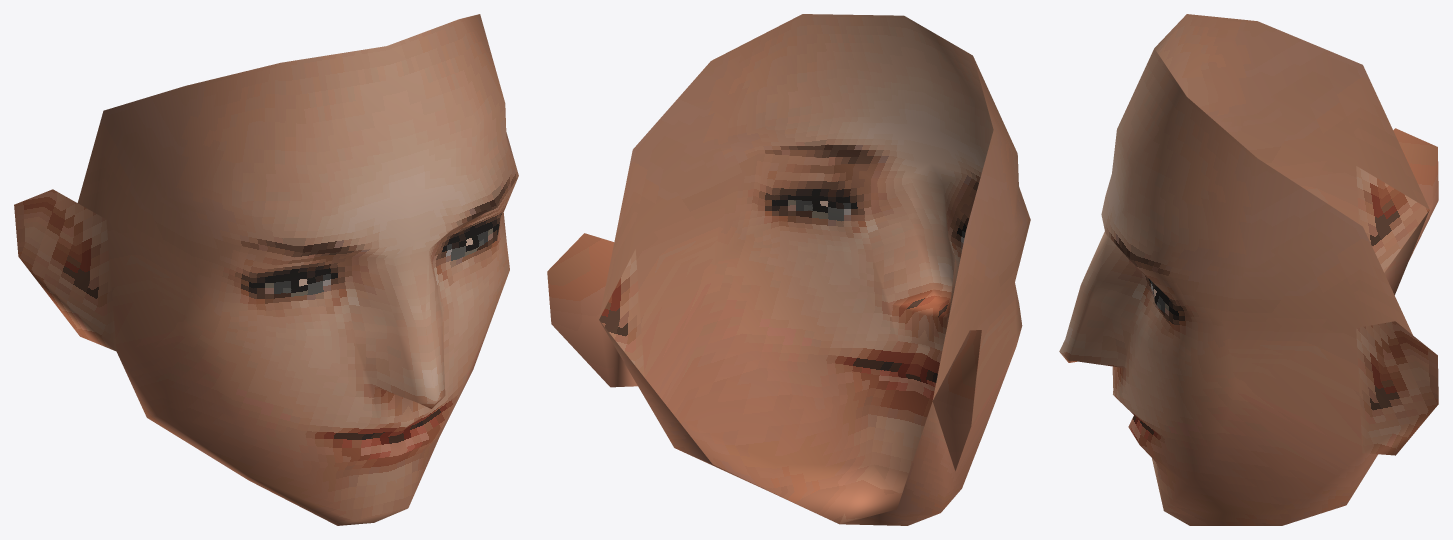
3 renders of one model, left to right at view 1: azimuth 30°, elevation 25°; view 2: azimuth 150°, elevation 25°; view 3: azimuth 270°, elevation 25°, orthographic. The views are drawn at different scales.
Size of the model in its own units: 19.4 by 20.12 by 14.94.
1 material, 1 textured.
